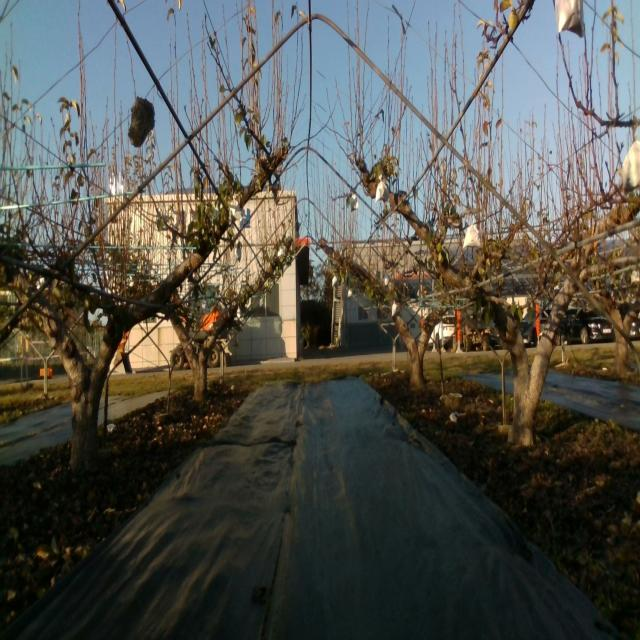pearbags: (554, 0, 584, 40), (622, 141, 640, 198), (462, 222, 482, 250), (228, 195, 242, 222), (376, 173, 388, 202)
